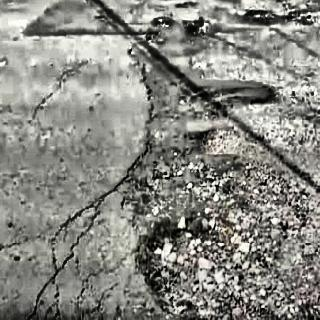alligator-crack: (23, 185, 135, 320)
crack: (122, 39, 158, 180)
pothole: (138, 200, 319, 320), (24, 44, 90, 130), (242, 0, 320, 59), (184, 16, 212, 56), (148, 7, 175, 44), (45, 42, 46, 52), (56, 42, 57, 46)
